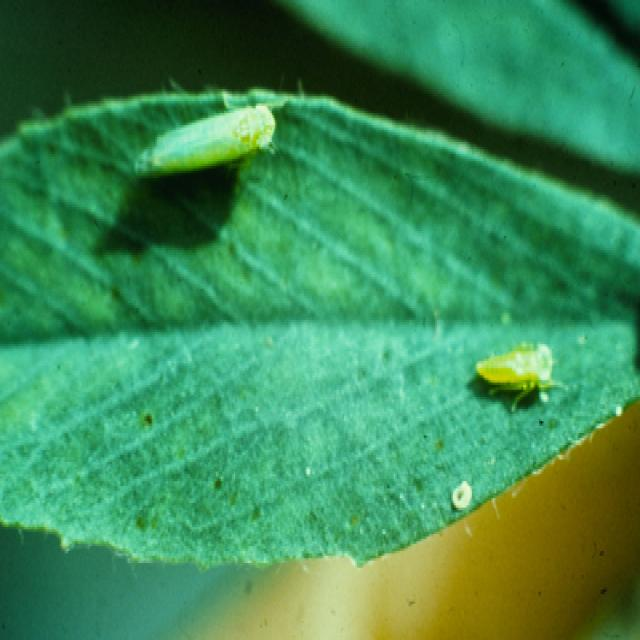Yechan: (132, 96, 290, 188)
